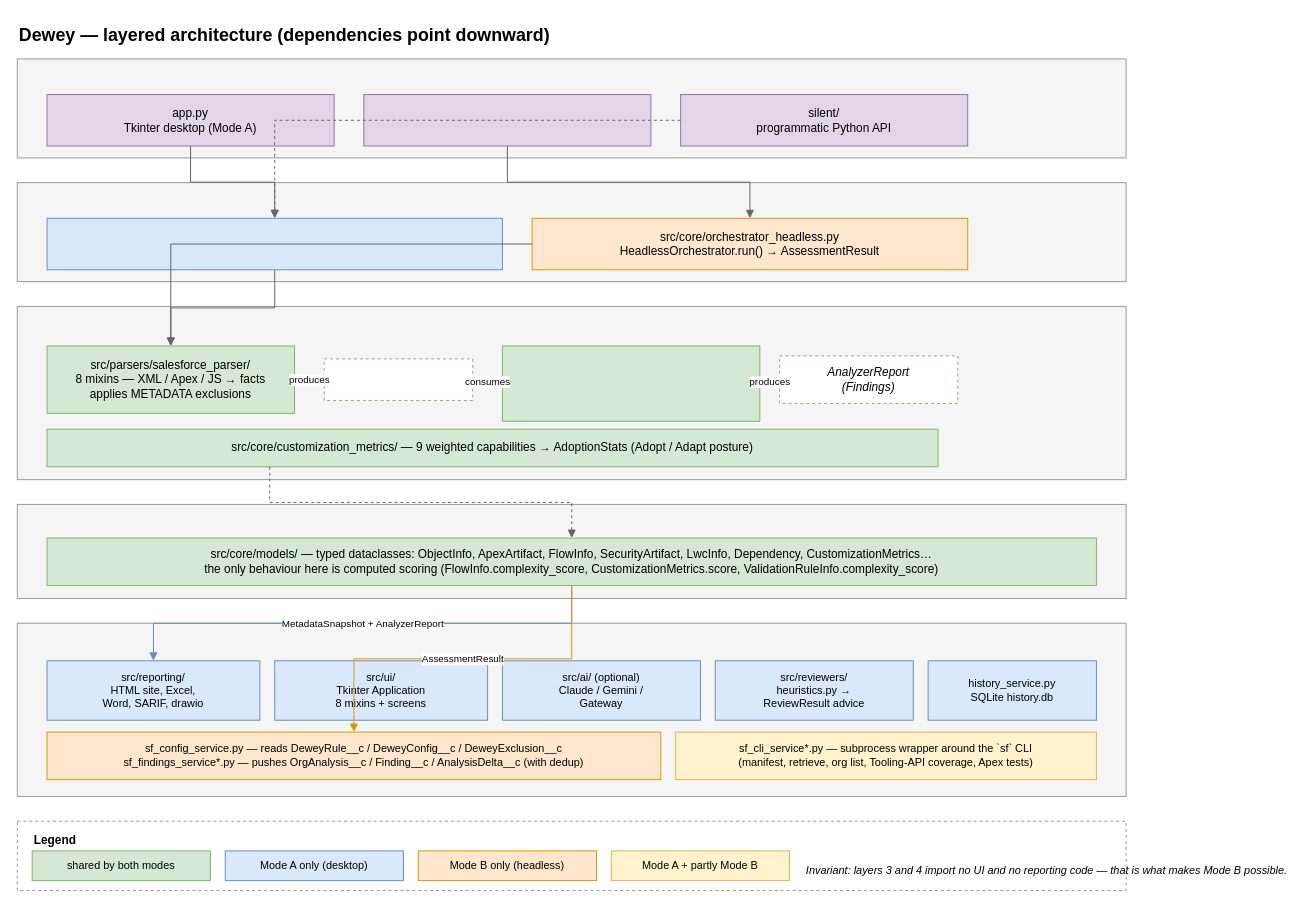
The diagram is 1305 pixels wide and 908 high, and some of its shapes have lost their labels. The shapes that lost their labels are listed below. From the top down, each one's box as (x1, y1, x2, y2) in pixels, then its label:
(363, 94, 651, 146): assess.py headless /assess-org (Mode B)
(16, 58, 1126, 158): 1 — Entry points
(46, 217, 502, 270): src/core/orchestrator/ SalesforceDocumentationGenerator.generate() — 11 steps
(16, 182, 1126, 282): 2 — Orchestration
(323, 358, 473, 400): MetadataSnapshot
(16, 305, 1126, 480): 3 — Domain: parse first, then judge
(501, 345, 760, 421): src/analyzer/ AnalyzerEngine + 52 rules (rules.xml) applies RULE exclusions
(16, 503, 1126, 598): 4 — Shared model
(16, 622, 1126, 796): 5 — Presentation & side services
